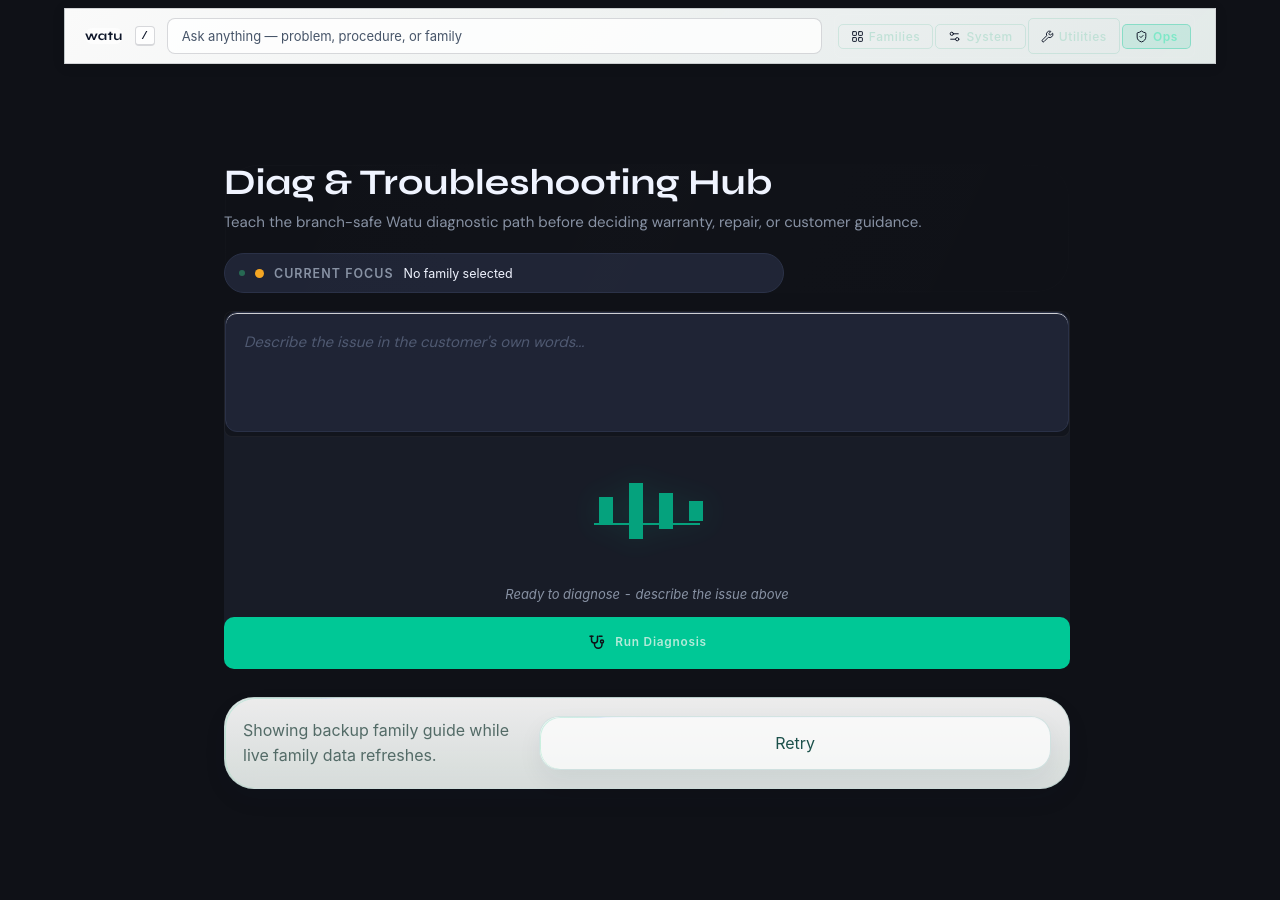
Test: HomePage › shows built-in family cards when the family endpoint fails
Click the button "Families" at (886, 36), box [838, 24, 934, 48]
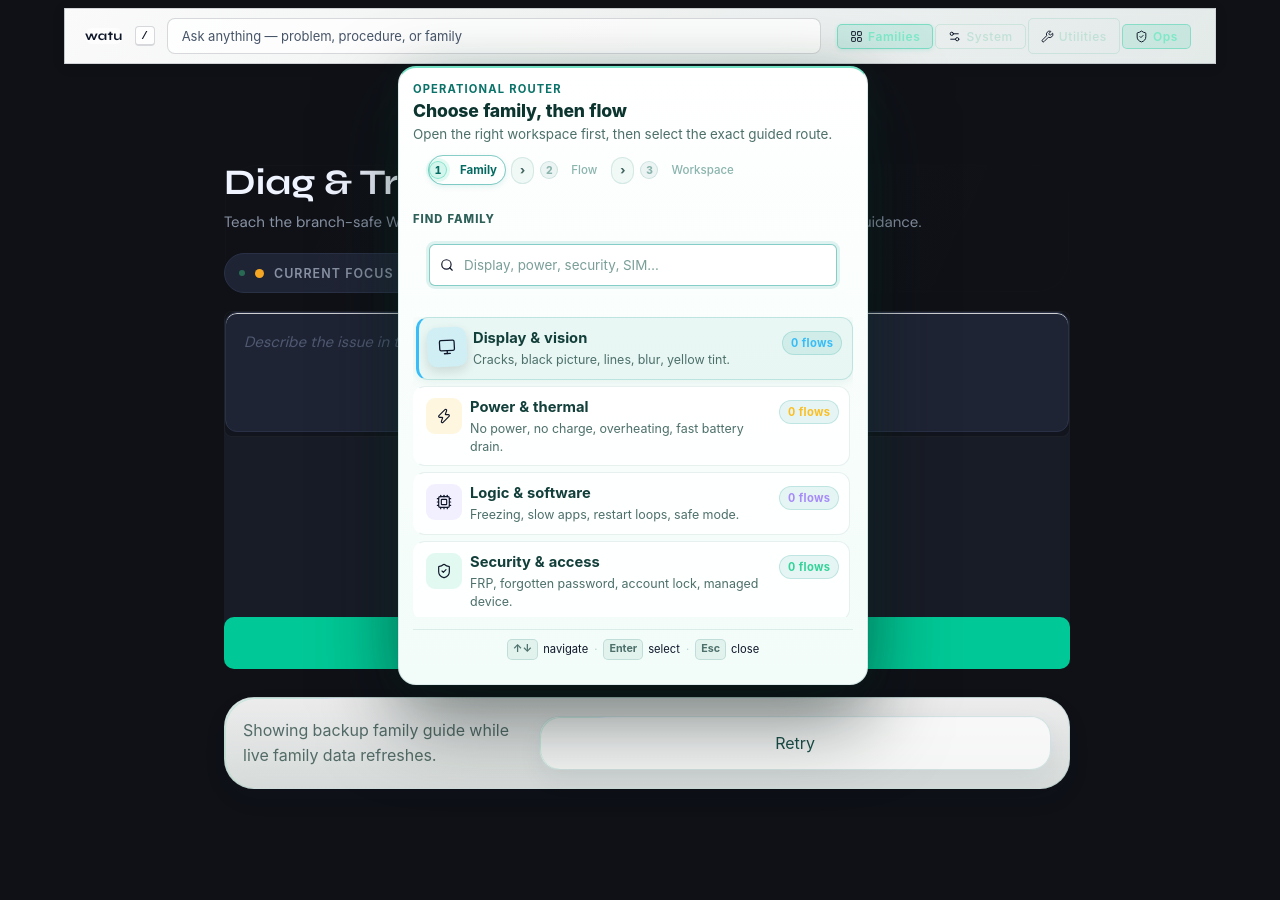
Expected: the text "Showing backup family guide" is shown, [243, 720, 509, 765]
Result: the button with aria-label "open display & vision diagnosis family" is shown at [416, 317, 853, 380]
Result: the button with aria-label "open power & thermal diagnosis family" is shown at [413, 386, 850, 466]
